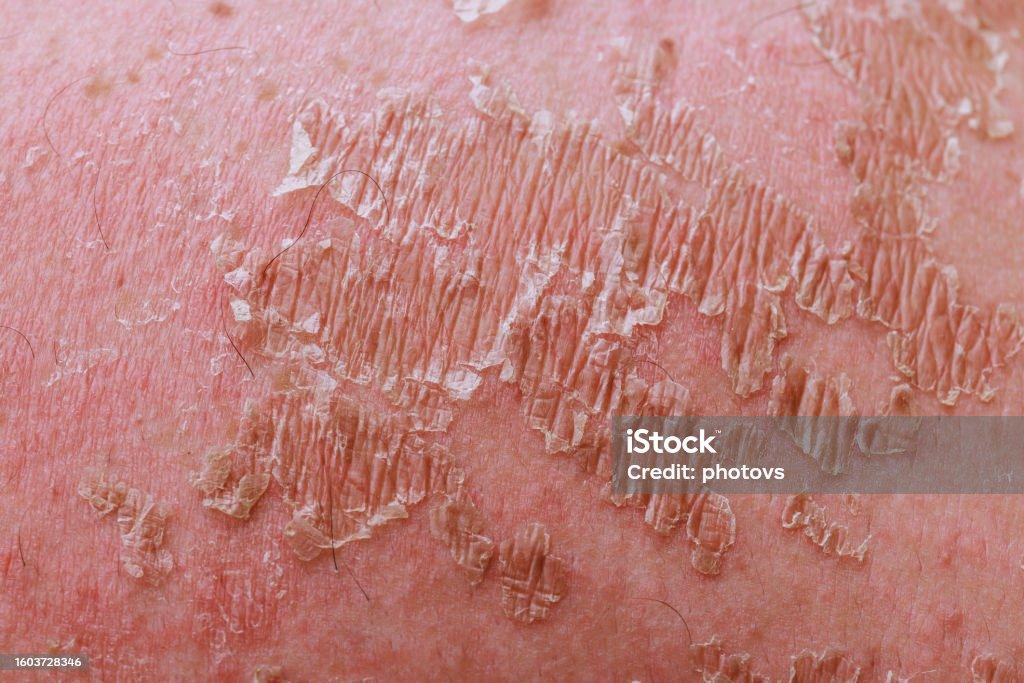Dry-Skin: (123, 75, 423, 422), (168, 410, 573, 640), (442, 172, 942, 330), (2, 292, 195, 537), (483, 0, 695, 180), (460, 208, 652, 370), (495, 445, 650, 593), (812, 123, 1023, 230), (722, 502, 942, 602), (662, 595, 945, 665), (152, 25, 453, 85), (793, 7, 933, 112), (772, 332, 1007, 373)
